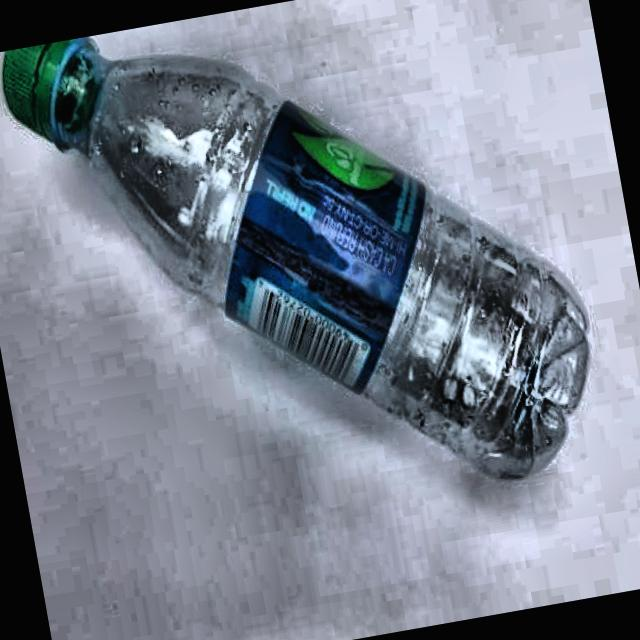plastic bottle: (0, 36, 589, 479)
